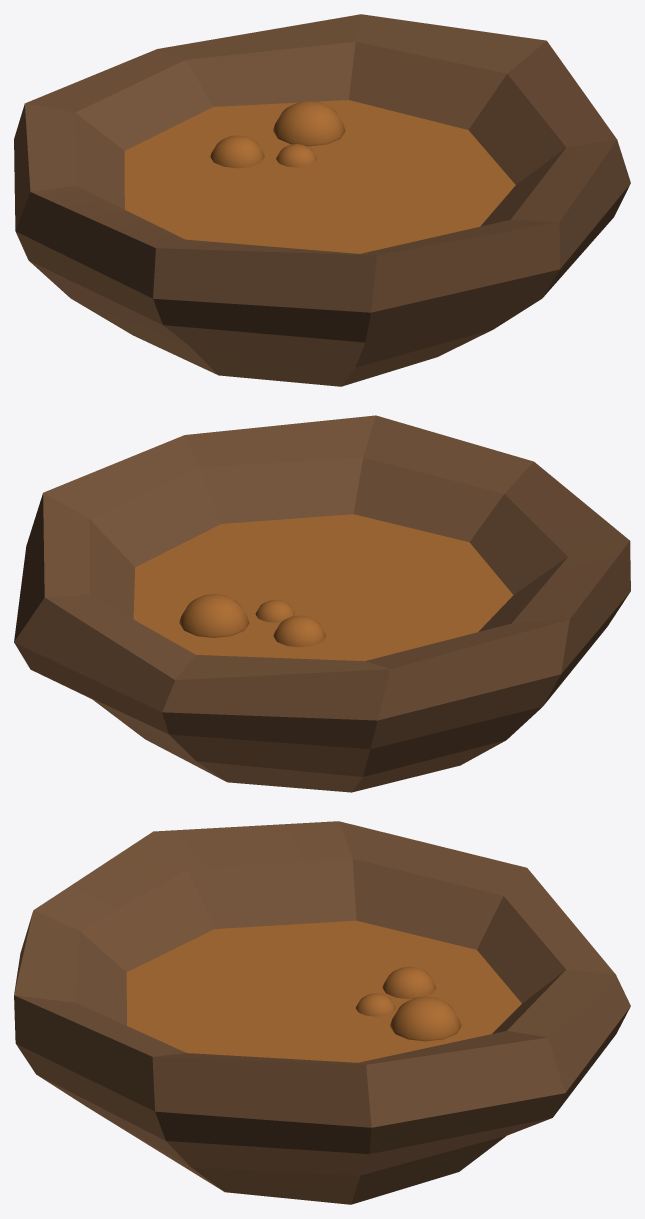
File: BowlAndSoup.fbx
3 views of the same model, one above another, from view 1: azimuth 30°, elevation 25°; view 2: azimuth 150°, elevation 25°; view 3: azimuth 270°, elevation 25° (orthographic). The views are drawn at different scales.
Visible parts, largest first — view 1: Bowl, BrownSoup; view 2: Bowl, BrownSoup; view 3: Bowl, BrownSoup.
Boxes of the visible parts, bbox=[...] form: Bowl: bbox=[14, 14, 630, 386]; BrownSoup: bbox=[124, 100, 515, 253]; Bowl: bbox=[14, 415, 630, 792]; BrownSoup: bbox=[133, 514, 513, 661]; Bowl: bbox=[14, 821, 630, 1204]; BrownSoup: bbox=[126, 920, 521, 1062].
Size of the model in its own units: 14.65 by 5.84 by 14.48.
